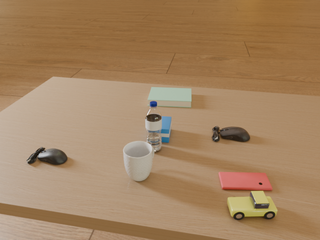book: (148, 87, 191, 107)
bottle: (146, 101, 162, 152)
box: (161, 116, 171, 142)
cup: (123, 141, 155, 181)
mouse: (26, 147, 67, 164), (212, 126, 250, 141)
phone: (219, 172, 272, 190)
toy_car: (227, 191, 277, 220)
